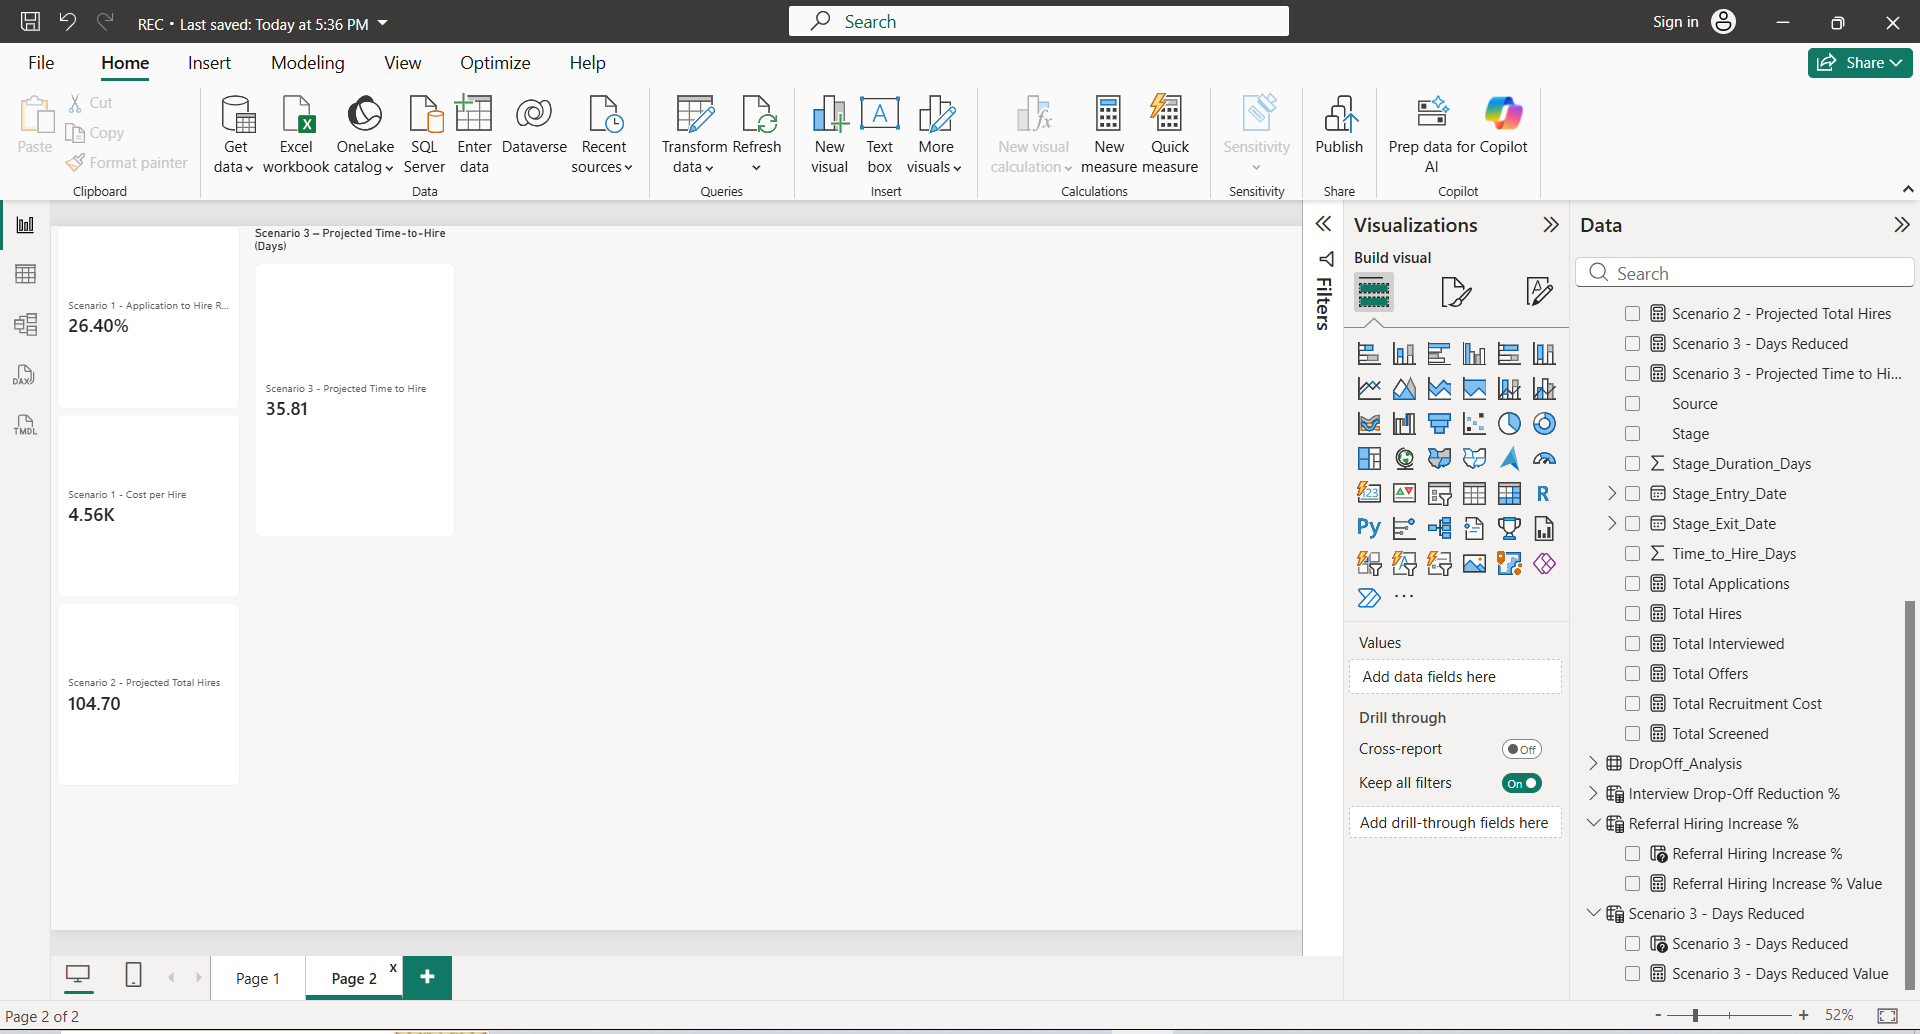

What the dashboard file says about the page in this screenshot:
{"tool":"powerbi","page":{"name":"Page 2","canvas":[1920,1080],"ordinal":1},"visuals":[{"type":"cardVisual","fields":{"Data":["Cleaned_Data.Scenario 1 - Application to Hire Rate"]},"box":[10,0,280,280],"z":0},{"type":"cardVisual","fields":{"Data":["Cleaned_Data.Scenario 1 - Cost per Hire"]},"box":[10,290,280,280],"z":1000},{"type":"cardVisual","fields":{"Data":["Cleaned_Data.Scenario 2 - Projected Total Hires"]},"box":[10,580,280,280],"z":2000},{"type":"cardVisual","title":"Scenario 3 – Projected Time-to-Hire (Days)","fields":{"Data":["Cleaned_Data.Scenario 3 - Projected Time to Hire"]},"box":[312.5,0,307.1,476.8],"z":3000}]}

Visuals, with their boxes on the page's 1920x1080 design canvas (x1, y1, x2, y2). These are canvas units, not pixel positions in the 1920x1034 screenshot, which may show the page scaled, cropped or inside an application window:
cardVisual - Cleaned_Data.Scenario 1 - Application to Hire Rate: rect(10, 0, 290, 280)
cardVisual - Cleaned_Data.Scenario 1 - Cost per Hire: rect(10, 290, 290, 570)
cardVisual - Cleaned_Data.Scenario 2 - Projected Total Hires: rect(10, 580, 290, 860)
"Scenario 3 – Projected Time-to-Hire (Days)" cardVisual: rect(312, 0, 620, 477)
